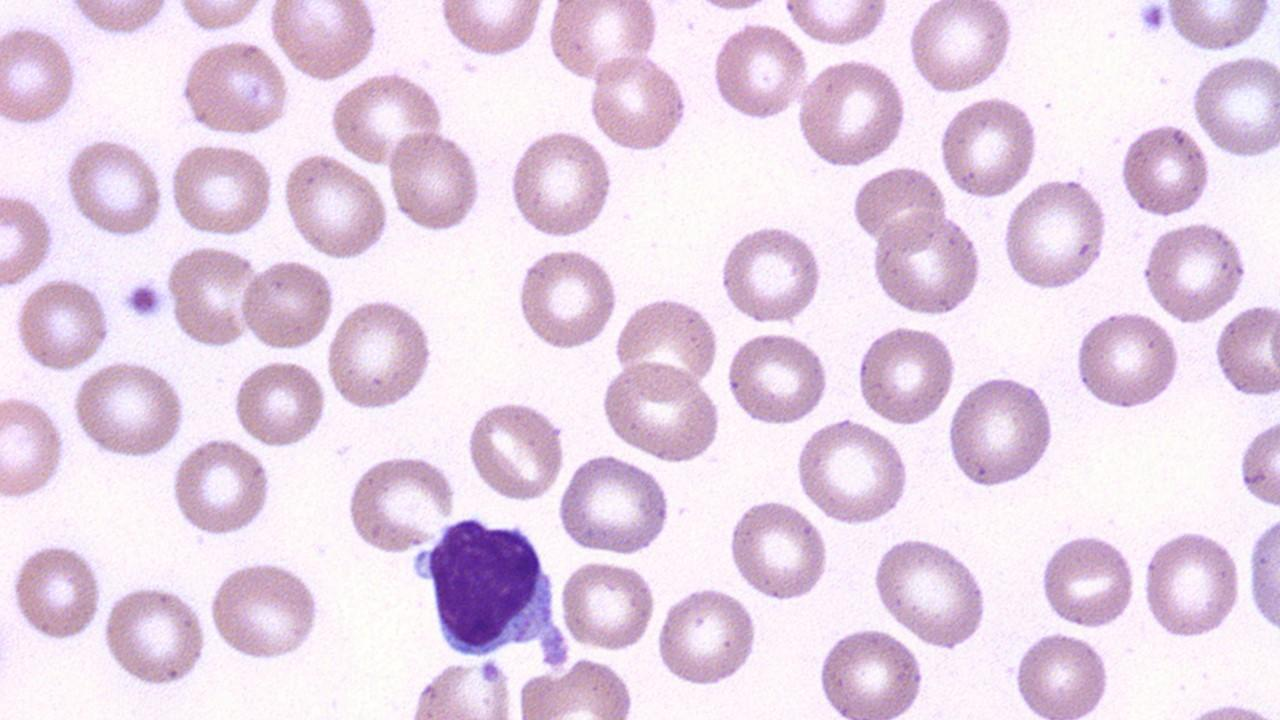Platelets: (121, 276, 166, 322), (1136, 2, 1170, 34)
RBC: (872, 534, 992, 650), (944, 371, 1056, 492), (324, 294, 438, 412), (794, 56, 910, 168), (1000, 176, 1110, 294), (792, 418, 912, 525), (206, 556, 324, 664), (599, 362, 724, 462), (506, 127, 616, 240), (279, 152, 391, 262), (1139, 524, 1243, 642), (70, 359, 190, 460), (868, 213, 983, 318), (556, 452, 674, 554), (511, 245, 622, 353), (1071, 308, 1183, 413), (98, 583, 211, 687), (344, 452, 459, 554), (613, 293, 722, 400), (327, 70, 447, 167), (1139, 219, 1249, 324), (725, 496, 831, 602), (463, 396, 568, 503), (177, 39, 290, 138), (654, 585, 762, 688), (938, 94, 1042, 200), (717, 223, 826, 324), (814, 622, 928, 718), (167, 140, 277, 238), (854, 323, 958, 426), (62, 136, 168, 237), (169, 436, 272, 539), (385, 128, 484, 235), (723, 330, 832, 427), (584, 52, 688, 153), (163, 243, 262, 349), (906, 2, 1018, 95), (708, 20, 808, 124), (1037, 528, 1137, 630), (12, 275, 114, 373), (8, 541, 106, 642), (545, 1, 660, 87), (1189, 52, 1279, 160), (558, 557, 658, 654), (238, 256, 336, 354), (1116, 119, 1212, 219), (1010, 626, 1114, 718), (229, 358, 330, 448), (0, 18, 81, 130), (268, 2, 380, 82), (848, 163, 947, 250), (512, 654, 640, 716), (0, 391, 68, 503), (1212, 300, 1280, 400), (434, 2, 546, 59), (0, 185, 57, 290), (1162, 2, 1272, 55), (782, 2, 892, 48), (1244, 504, 1280, 642), (1235, 410, 1279, 510), (62, 0, 176, 34), (171, 0, 270, 32)
WBC: (421, 512, 568, 662)
